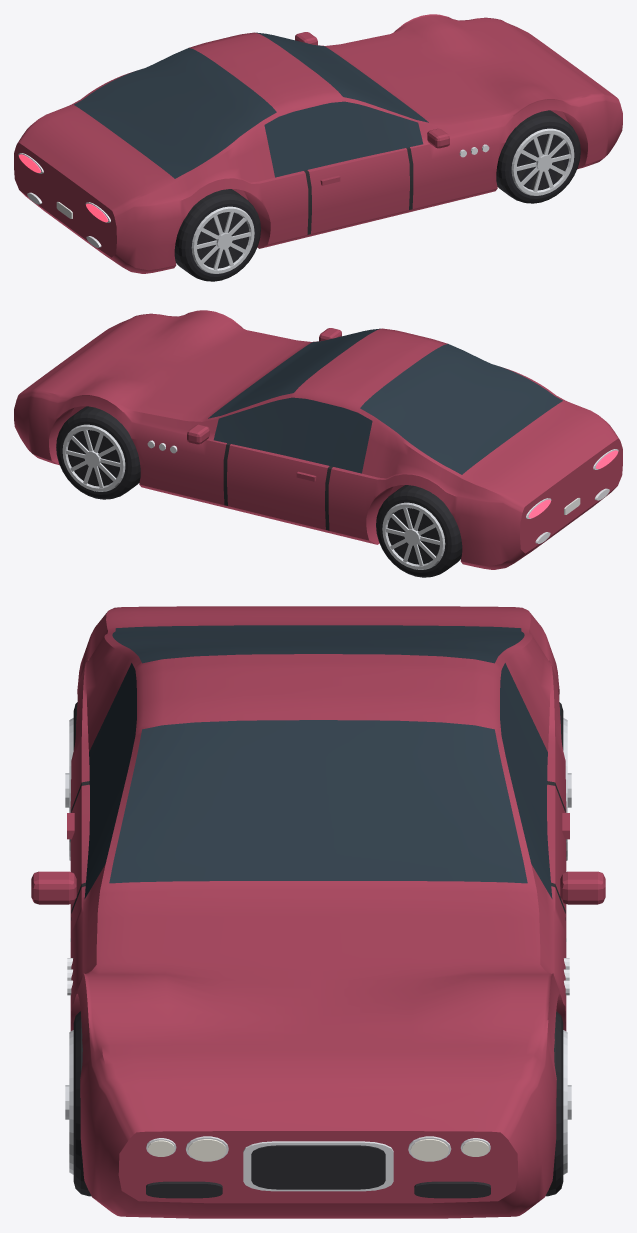
The model's file is bentli_kontinental.fbx.
The picture shows the model from 3 angles, top to bottom: view 1: azimuth 30°, elevation 25°; view 2: azimuth 150°, elevation 25°; view 3: azimuth 270°, elevation 25°; orthographic projection. The views are drawn at different scales.
Visible parts, largest first — view 1: Body.032, Glass.032, Tire.032, Rim.032, Trim.032, Chrome.030, TailLight.032; view 2: Body.032, Glass.032, Tire.032, Rim.032, Trim.032, Chrome.030, TailLight.032; view 3: Body.032, Glass.032, Trim.032, Tire.032, Chrome.030, Rim.032, HeadLight.032.
Boxes of the visible parts, x1,y1,x2,y2 form: Body.032: (14,14,622,273); Glass.032: (74,32,428,178); Tire.032: (174,110,580,281); Rim.032: (191,128,574,273); Trim.032: (197,147,566,268); Chrome.030: (18,144,489,247); TailLight.032: (19,154,108,222); Body.032: (14,310,622,569); Glass.032: (208,328,562,474); Tire.032: (56,406,462,577); Rim.032: (62,424,445,569); Trim.032: (70,430,438,563); Chrome.030: (147,440,618,543); TailLight.032: (528,450,617,518); Body.032: (31,606,605,1218); Glass.032: (84,625,552,898); Trim.032: (70,781,566,1198); Tire.032: (73,702,563,1196); Chrome.030: (67,958,569,1191); Rim.032: (65,718,571,1174); HeadLight.032: (148,1139,488,1161).
Size of the model in its own units: 1574 by 431 by 764.
